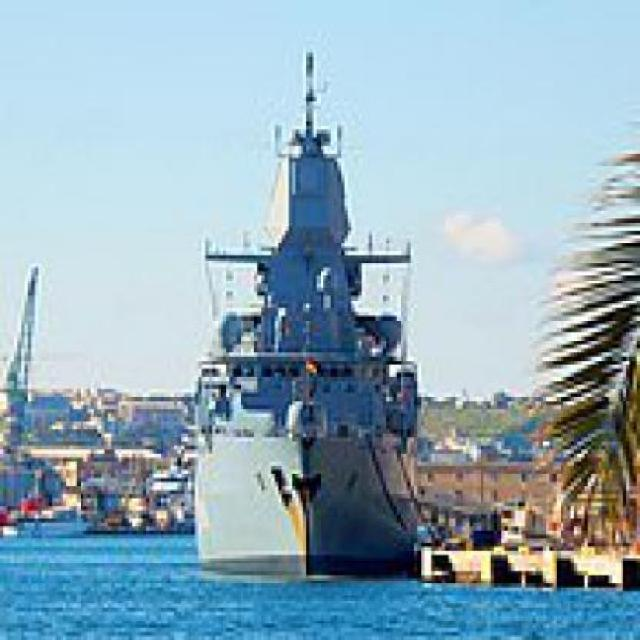warship2: (168, 54, 449, 577)
